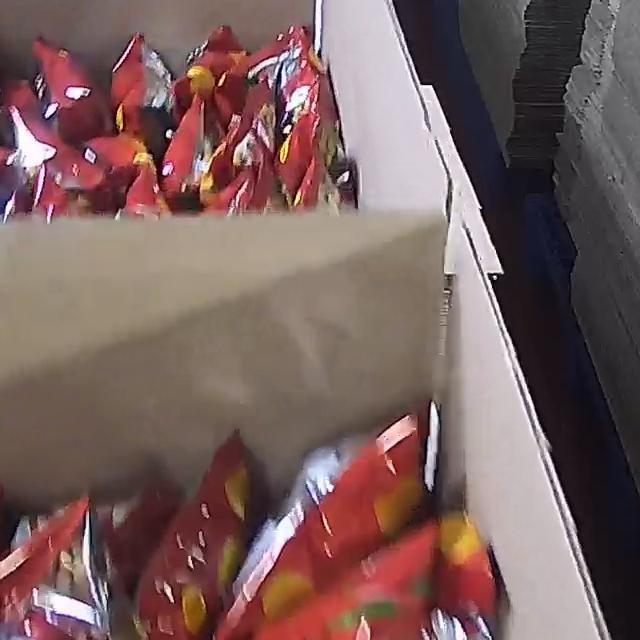masala: (0, 408, 504, 640), (0, 19, 353, 221)
